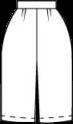Hemline: (0, 119, 72, 123)
Waistline: (16, 7, 56, 9), (16, 0, 55, 1)
